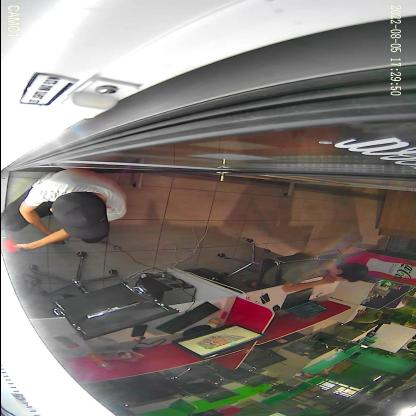red: (0, 236, 16, 252)
